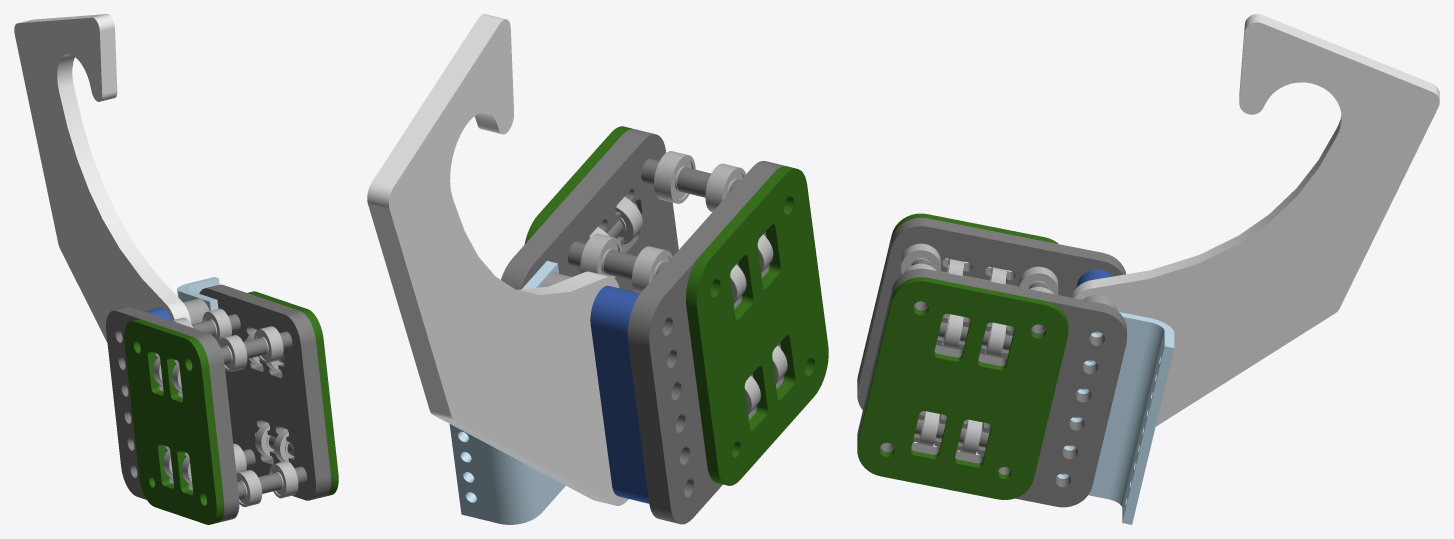
3 views of the same model, side by side, from view 1: azimuth 30°, elevation 25°; view 2: azimuth 150°, elevation 25°; view 3: azimuth 270°, elevation 25° (orthographic). The views are drawn at different scales.
Visible parts, largest first — view 1: Part 8, Part 1 (×2), Part 5 (×2), .1875" Round ID .5" OD Radial Bearing (217-3246) (×5), Part 4 (×3), .25" Round ID .5" OD Radial Bearing (217-3489) (×2), Part 9, Part 6; view 2: Part 8, Part 5 (×2), Part 1 (×2), Part 7, Part 9, .1875" Round ID .5" OD Radial Bearing (217-3246) (×4), Part 4 (×2), .25" Round ID .5" OD Radial Bearing (217-3489); view 3: Part 8, Part 5 (×2), Part 1 (×2), Part 9, .1875" Round ID .5" OD Radial Bearing (217-3246) (×2).
Part boxes in pixels (box(x1,y1,x2,y2)): Part 8: box(14, 14, 191, 342); Part 1 (×2): box(106, 284, 330, 522); Part 5 (×2): box(124, 291, 338, 524); .1875" Round ID .5" OD Radial Bearing (217-3246) (×5): box(202, 308, 298, 506); Part 4 (×3): box(191, 314, 307, 499); .25" Round ID .5" OD Radial Bearing (217-3489) (×2): box(255, 423, 293, 461); Part 9: box(177, 277, 219, 310); Part 6: box(183, 298, 209, 324); Part 8: box(367, 14, 628, 505); Part 5 (×2): box(524, 126, 828, 485); Part 1 (×2): box(501, 129, 786, 524); Part 7: box(590, 285, 649, 503); Part 9: box(449, 261, 565, 524); .1875" Round ID .5" OD Radial Bearing (217-3246) (×4): box(580, 151, 745, 293); Part 4 (×2): box(567, 158, 739, 280); .25" Round ID .5" OD Radial Bearing (217-3489): box(615, 197, 642, 244); Part 8: box(1071, 14, 1439, 426); Part 5 (×2): box(857, 213, 1068, 499); Part 1 (×2): box(857, 217, 1126, 507); Part 9: box(1057, 312, 1174, 524); .1875" Round ID .5" OD Radial Bearing (217-3246) (×2): box(901, 243, 1058, 294).
Size of the model in its own units: 0.0574 by 0.1629 by 0.1853.
